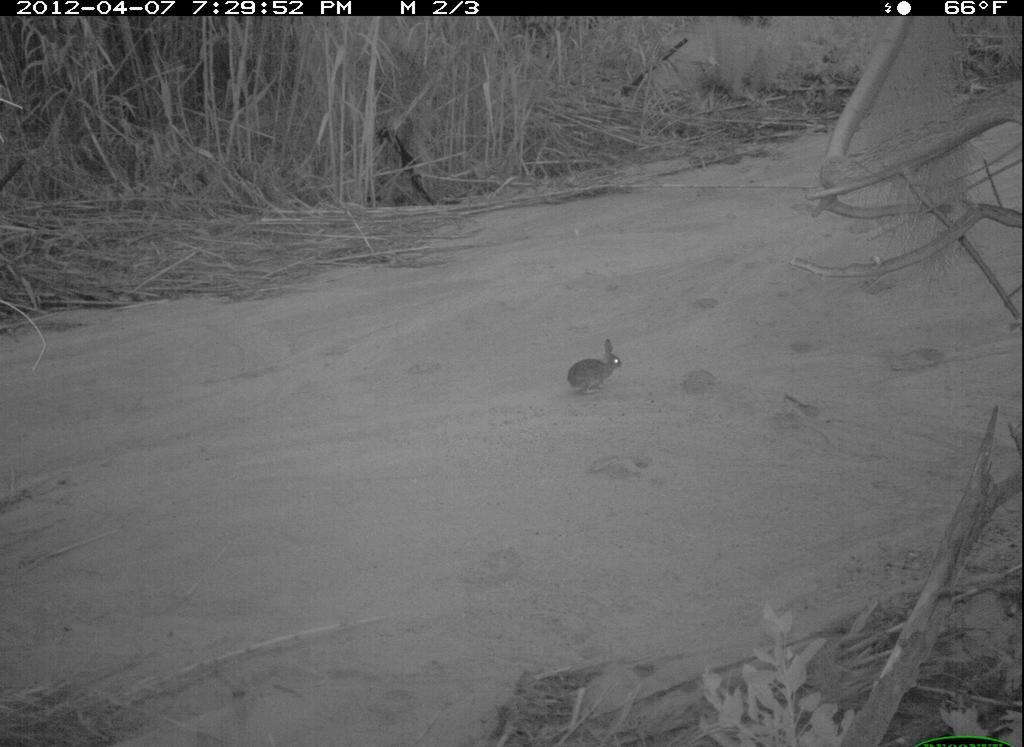rabbit: (551, 331, 638, 418)
